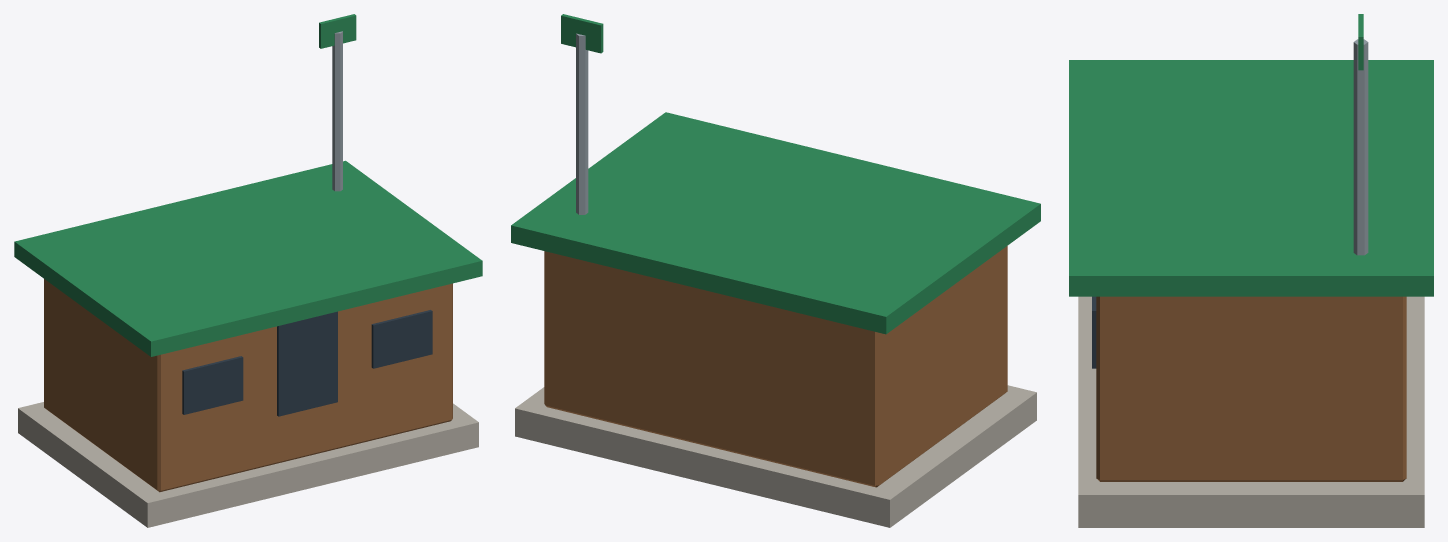
The picture shows the model from 3 angles, left to right: view 1: azimuth 30°, elevation 25°; view 2: azimuth 150°, elevation 25°; view 3: azimuth 270°, elevation 25°; orthographic projection. The views are drawn at different scales.
Visible parts, largest first — view 1: hq; view 2: hq; view 3: hq.
Boxes of the visible parts, x1,y1,x2,y2 form: hq: [14, 14, 482, 527]; hq: [511, 14, 1040, 527]; hq: [1069, 14, 1433, 527].
Size of the model in its own units: 5.6 by 5.8 by 4.
